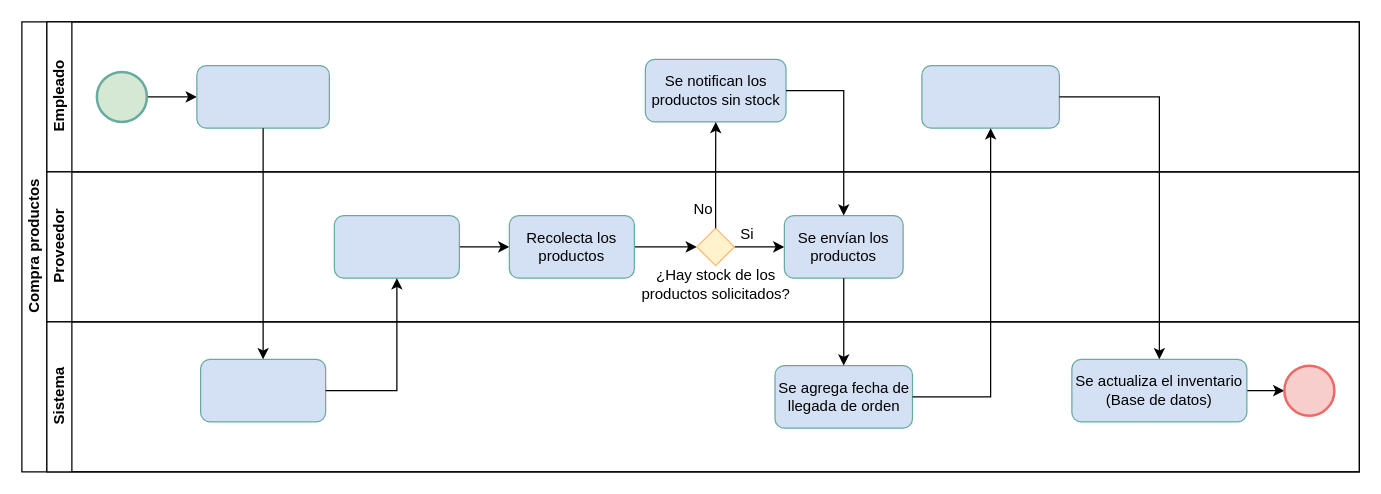
Image size: 1381x494. Some labels were removed from this diagram. Each missing label, with the box of its shape:
Crear orden de pedido: (199, 358, 326, 422)
Recibe orden de pedido: (333, 214, 459, 278)
Recibe pedido: (921, 64, 1059, 128)
Solicitar productos: (196, 64, 329, 128)
